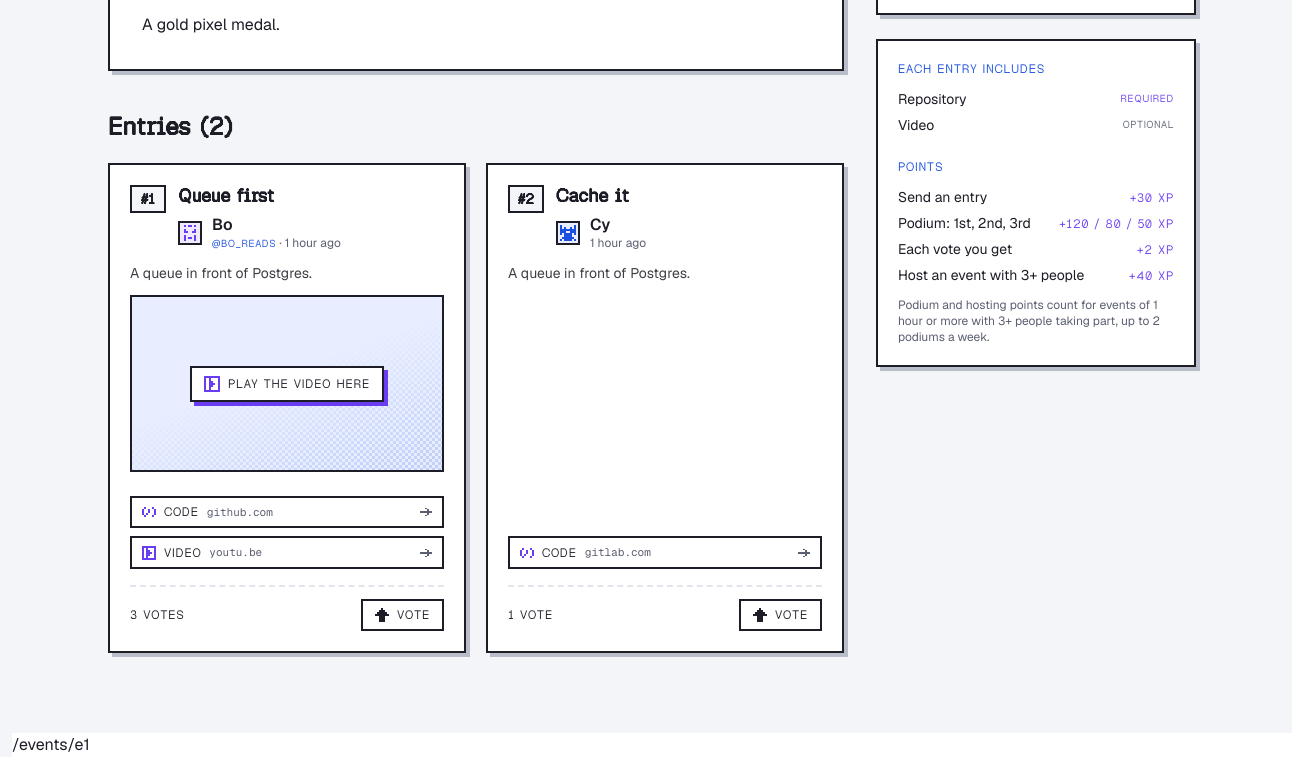
Test case: sends a signed-out visitor to sign in when they vote
(page scrolled)
Click the button with aria-label "Vote for Queue first (3)" at (402, 615), box [361,599,444,631]
(page scrolled)
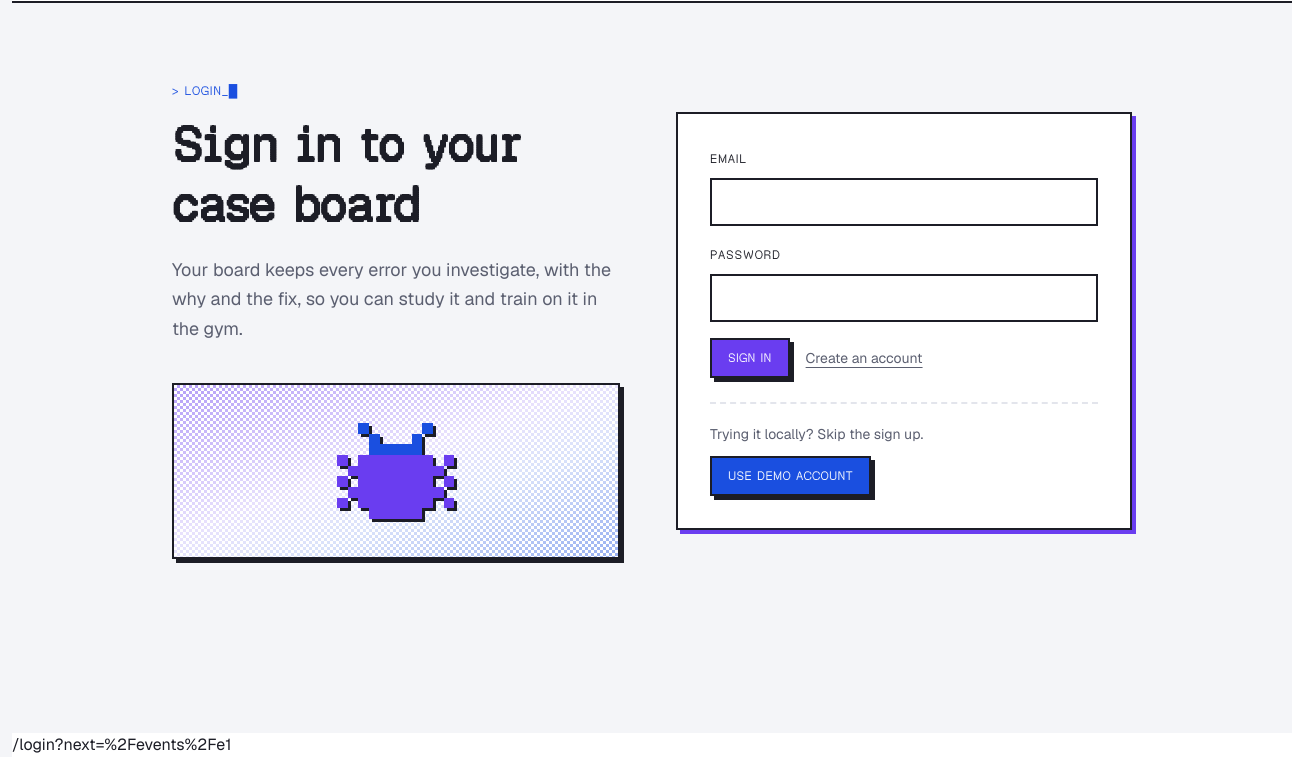
Expected: the text with test id "location" reads "/login?next=%2Fevents%2Fe1", [12,734,231,755]
